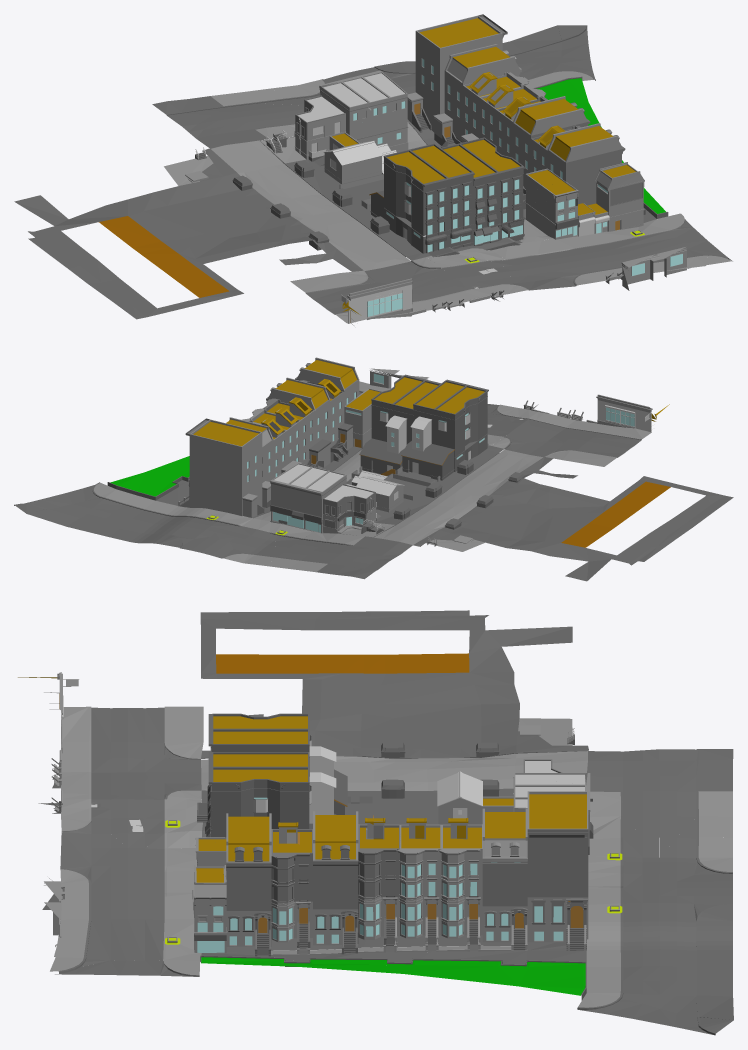
The model's file is brook_s2_12.FBX.
The picture shows the model from 3 angles, top to bottom: view 1: azimuth 30°, elevation 25°; view 2: azimuth 150°, elevation 25°; view 3: azimuth 270°, elevation 25°; orthographic projection. The views are drawn at different scales.
Parts seen in each view (by area): view 1: unnamed, null; view 2: unnamed; view 3: unnamed, null.
Part boxes in pixels (bbox=[...]): unnamed: bbox=[14, 14, 708, 325]; null: bbox=[622, 162, 732, 265]; unnamed: bbox=[14, 357, 733, 581]; unnamed: bbox=[18, 610, 733, 1035]; null: bbox=[50, 956, 409, 976].
Size of the model in its own units: 155 by 22.1 by 118.
